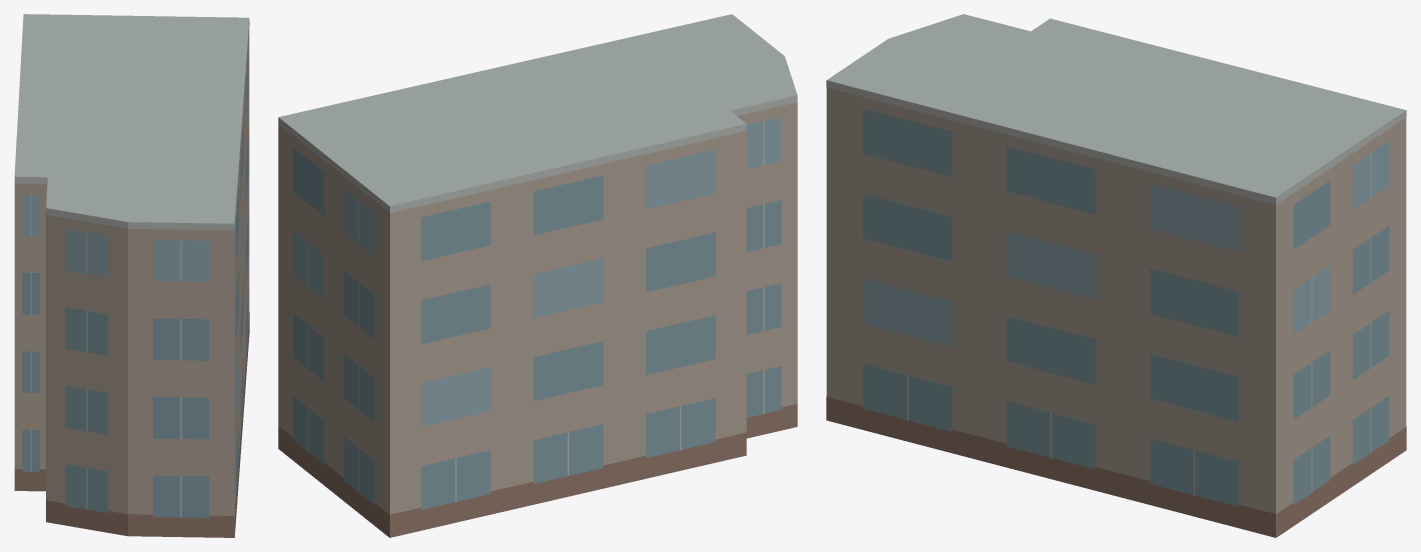
File: survey-upis-32626716.glb
3 views of the same model, side by side, from view 1: azimuth 30°, elevation 25°; view 2: azimuth 150°, elevation 25°; view 3: azimuth 270°, elevation 25° (orthographic). The views are drawn at different scales.
Visible parts, largest first — view 1: survey-upis-32626716.tmp; view 2: survey-upis-32626716.tmp; view 3: survey-upis-32626716.tmp.
Part boxes in pixels (x1=…): survey-upis-32626716.tmp: x1=14, y1=14, x2=249, y2=537; survey-upis-32626716.tmp: x1=278, y1=14, x2=797, y2=537; survey-upis-32626716.tmp: x1=826, y1=14, x2=1406, y2=537.
Bounding box in the file's own units: 13.27 × 11.45 × 17.7.
